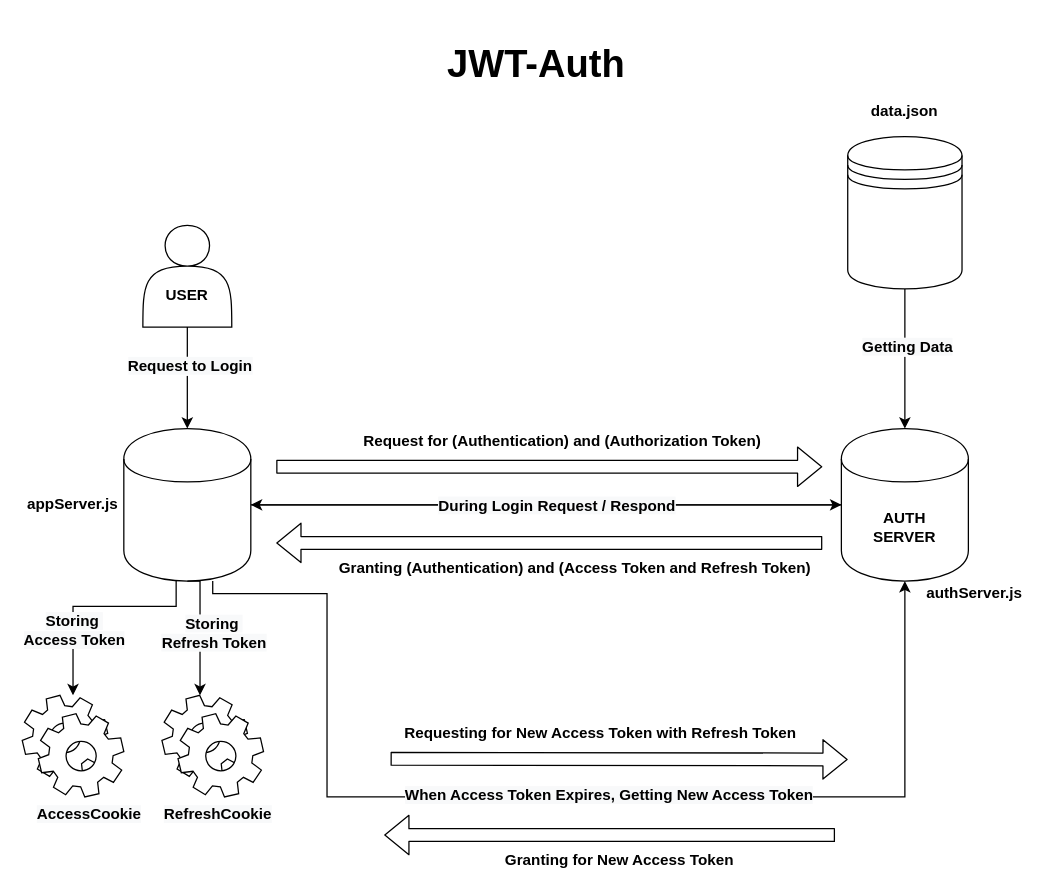
The diagram is 1044 pixels wide and 894 high, and some of its shapes have lost their labels. The centre of each missing label's shape, as x and y in pixels:
"APPLICATION SERVER" goes at point 187,504.
"DATA" goes at point 904,212.
